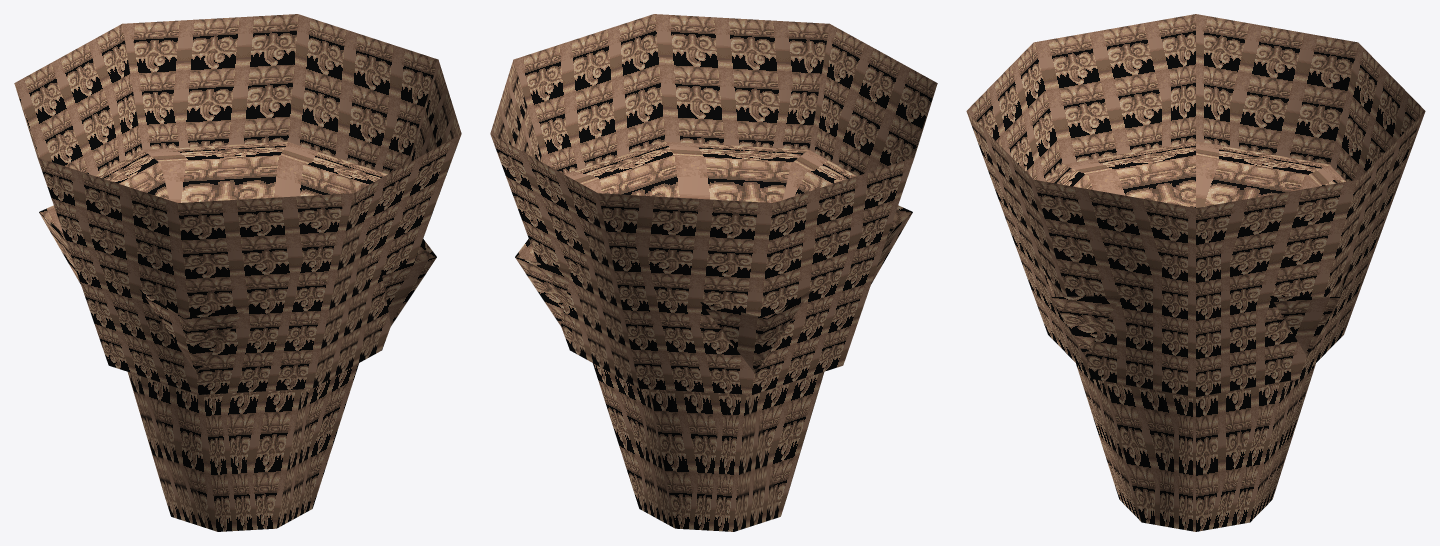
The model's file is 3347IMIG12_08.gltf.
3 views of the same model, side by side, from view 1: azimuth 30°, elevation 25°; view 2: azimuth 150°, elevation 25°; view 3: azimuth 270°, elevation 25° (orthographic).
Parts seen in each view (by area): view 1: 3347IMIG12_08; view 2: 3347IMIG12_08; view 3: 3347IMIG12_08.
Boxes of the visible parts, x1=… form: 3347IMIG12_08: x1=14, y1=14, x2=461, y2=531; 3347IMIG12_08: x1=490, y1=14, x2=937, y2=531; 3347IMIG12_08: x1=966, y1=14, x2=1425, y2=531.
Bounding box in the file's own units: 0.9702 × 0.9058 × 0.9702.
1 material, 1 textured.
